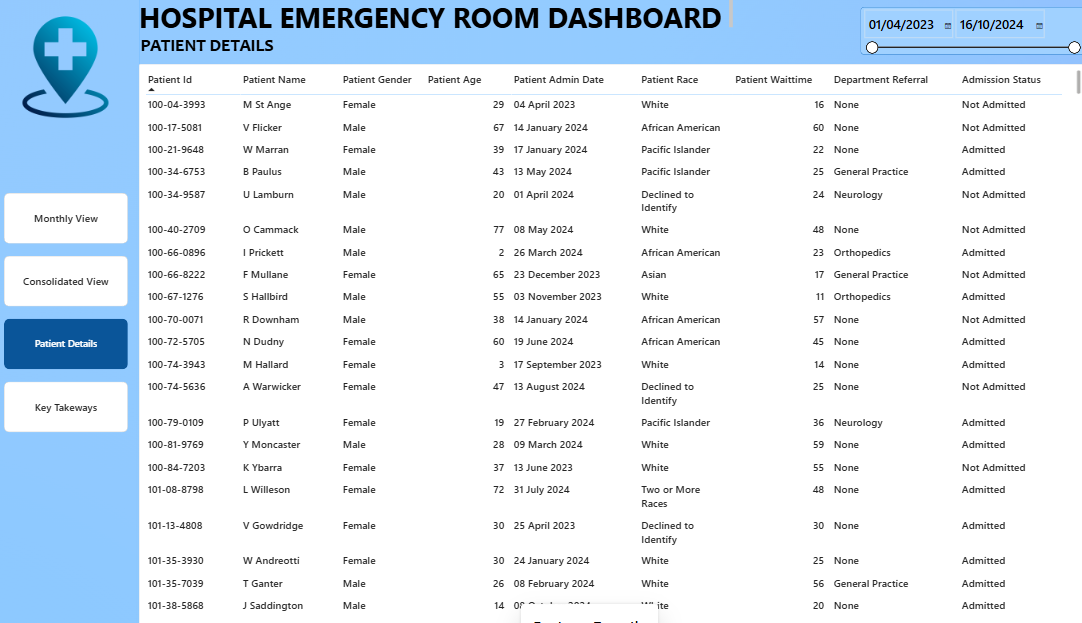

Layout of this report page (visuals, bound fields, positions):
{"tool":"powerbi","page":{"name":"Patient Details","canvas":[2300,1400],"ordinal":2},"visuals":[{"type":"shape","box":[0,0,310,1401.1],"z":0},{"type":"shape","box":[308.6,0,1993,140],"z":1000},{"type":"textbox","box":[308.6,0,1246.8,69.3],"z":2000},{"type":"textbox","box":[310.3,75.9,420.7,48.3],"z":3000},{"type":"slicer","fields":{"Values":["Date Table.Date"]},"box":[1824,20,476,100],"z":4000},{"type":"image","box":[48.3,0,213.8,289.7],"z":5000},{"type":"tableEx","fields":{"Values":["Hospital ER_Data.Patient Id","Hospital ER_Data.Patient Full Name","Hospital ER_Data.Patient Gender","Sum(Hospital ER_Data.Patient Age)","Hospital ER_Data.Patient Admin Date","Hospital ER_Data.Patient Race","Sum(Hospital ER_Data.Patient Waittime)","Hospital ER_Data.Department Referral","Hospital ER_Data.Admission Status"]},"box":[310,140,1990,1260],"z":6000},{"type":"pageNavigator","box":[26.7,410,260,503.3],"z":7000}]}

Visuals, with their boxes on the page's 2300x1400 design canvas (x1, y1, x2, y2). These are canvas units, not pixel positions in the 1082x623 screenshot, which may show the page scaled, cropped or inside an application window:
shape: [x1=0, y1=0, x2=310, y2=1401]
shape: [x1=309, y1=0, x2=2302, y2=140]
textbox: [x1=309, y1=0, x2=1555, y2=69]
textbox: [x1=310, y1=76, x2=731, y2=124]
slicer - Date Table.Date: [x1=1824, y1=20, x2=2300, y2=120]
image: [x1=48, y1=0, x2=262, y2=290]
tableEx - Hospital ER_Data.Patient Id x Hospital ER_Data.Patient Full Name: [x1=310, y1=140, x2=2300, y2=1400]
pageNavigator: [x1=27, y1=410, x2=287, y2=913]
